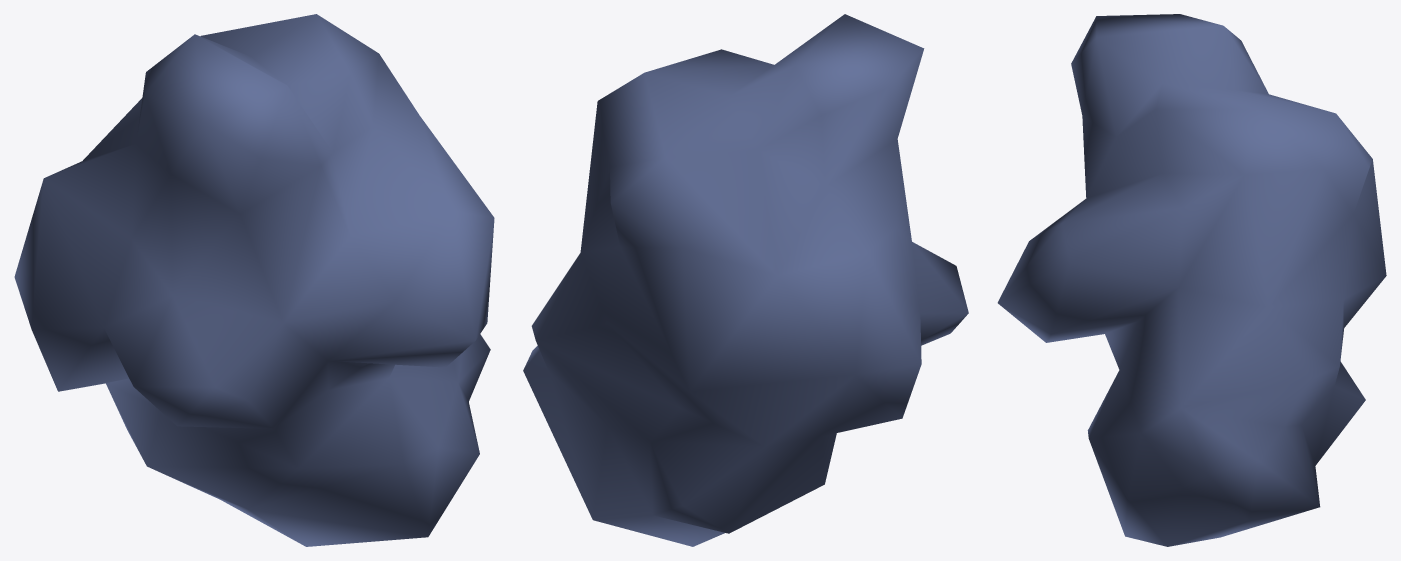
File: Mgenitalium_plsC_1iuq_0_1_0.dae
The picture shows the model from 3 angles, left to right: view 1: azimuth 30°, elevation 25°; view 2: azimuth 150°, elevation 25°; view 3: azimuth 270°, elevation 25°; orthographic projection. The views are drawn at different scales.
Parts seen in each view (by area): view 1: CoarseMS_1iuq; view 2: CoarseMS_1iuq; view 3: CoarseMS_1iuq.
Part boxes in pixels (left/top/right/bottom): CoarseMS_1iuq: left=14, top=14, right=494, bottom=546; CoarseMS_1iuq: left=523, top=14, right=968, bottom=546; CoarseMS_1iuq: left=997, top=14, right=1386, bottom=546.
Bounding box in the file's own units: 60.99 × 71.97 × 54.52.
